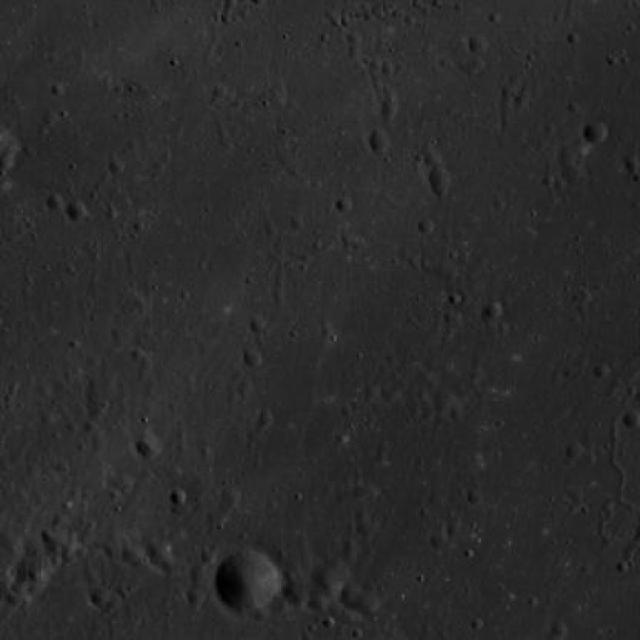crater: (212, 551, 278, 614), (304, 556, 348, 598), (13, 555, 53, 594), (430, 388, 456, 412), (352, 592, 377, 616), (144, 543, 170, 566), (133, 436, 158, 459), (22, 535, 46, 557), (584, 122, 607, 144), (366, 132, 389, 154), (466, 34, 488, 54), (426, 168, 448, 188), (64, 201, 86, 221), (90, 586, 110, 606), (120, 544, 140, 564), (218, 492, 238, 512), (621, 410, 640, 430), (338, 585, 358, 604), (568, 133, 588, 152), (556, 150, 576, 168), (240, 350, 260, 368), (549, 620, 568, 638), (184, 590, 203, 607), (102, 593, 120, 610), (484, 302, 501, 320), (248, 317, 266, 334), (45, 194, 63, 211), (285, 592, 304, 608), (168, 489, 185, 506), (157, 557, 174, 574), (354, 522, 372, 538), (378, 103, 396, 119), (234, 381, 252, 397), (468, 55, 486, 71), (423, 152, 440, 168), (429, 534, 446, 550), (308, 596, 324, 613), (380, 386, 397, 402), (107, 160, 124, 176), (333, 197, 350, 212), (50, 460, 67, 474)
